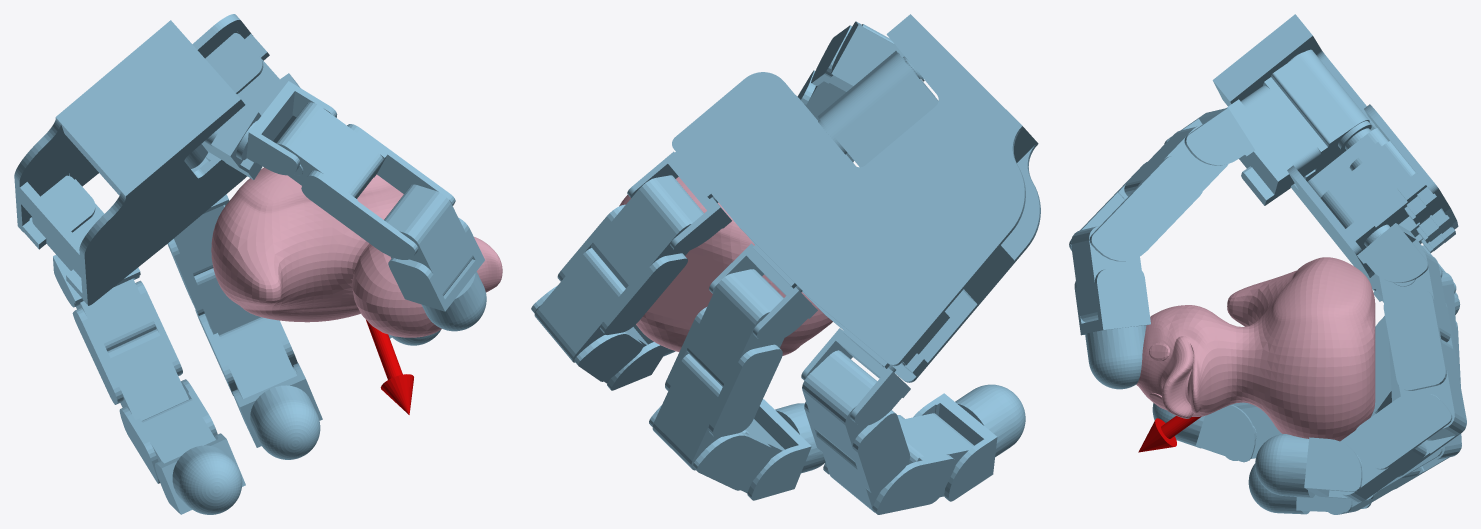
3 views of the same model, side by side, from view 1: azimuth 30°, elevation 25°; view 2: azimuth 150°, elevation 25°; view 3: azimuth 270°, elevation 25° (orthographic). The views are drawn at different scales.
Visible parts, largest first — view 1: world, rubber_duck.stl; view 2: world, rubber_duck.stl; view 3: world, rubber_duck.stl.
Part boxes in pixels (left/top/right/bottom): world: left=14, top=14, right=486, bottom=514; rubber_duck.stl: left=211, top=167, right=502, bottom=337; world: left=531, top=14, right=1040, bottom=514; rubber_duck.stl: left=619, top=177, right=832, bottom=355; world: left=1069, top=14, right=1466, bottom=514; rubber_duck.stl: left=1136, top=257, right=1375, bottom=441.
Size of the model in its own units: 0.1816 by 0.1915 by 0.153.
